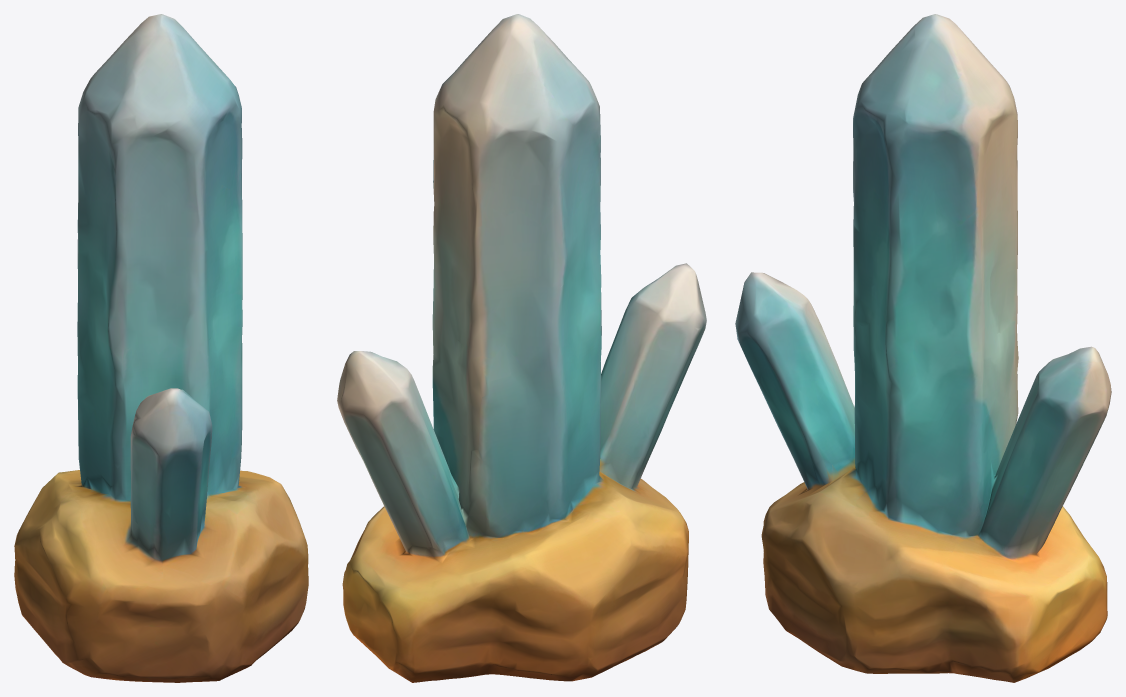
Rendered from crystal.glb.
3 renders of one model, left to right at view 1: azimuth 30°, elevation 25°; view 2: azimuth 150°, elevation 25°; view 3: azimuth 270°, elevation 25°, orthographic.
Visible parts, largest first — view 1: tripo_node_9509602a-af91-46d3-850d-c340cebce6f7; view 2: tripo_node_9509602a-af91-46d3-850d-c340cebce6f7; view 3: tripo_node_9509602a-af91-46d3-850d-c340cebce6f7.
Part boxes in pixels (<box>): tripo_node_9509602a-af91-46d3-850d-c340cebce6f7: <box>14,14,308,682</box>; tripo_node_9509602a-af91-46d3-850d-c340cebce6f7: <box>337,14,706,682</box>; tripo_node_9509602a-af91-46d3-850d-c340cebce6f7: <box>735,14,1111,682</box>.
Size of the model in its own units: 0.4512 by 1 by 0.5576.
Materials: 1 (1 with a texture image).
